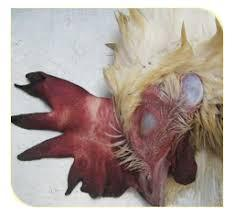AbNormal: (15, 71, 203, 202)
